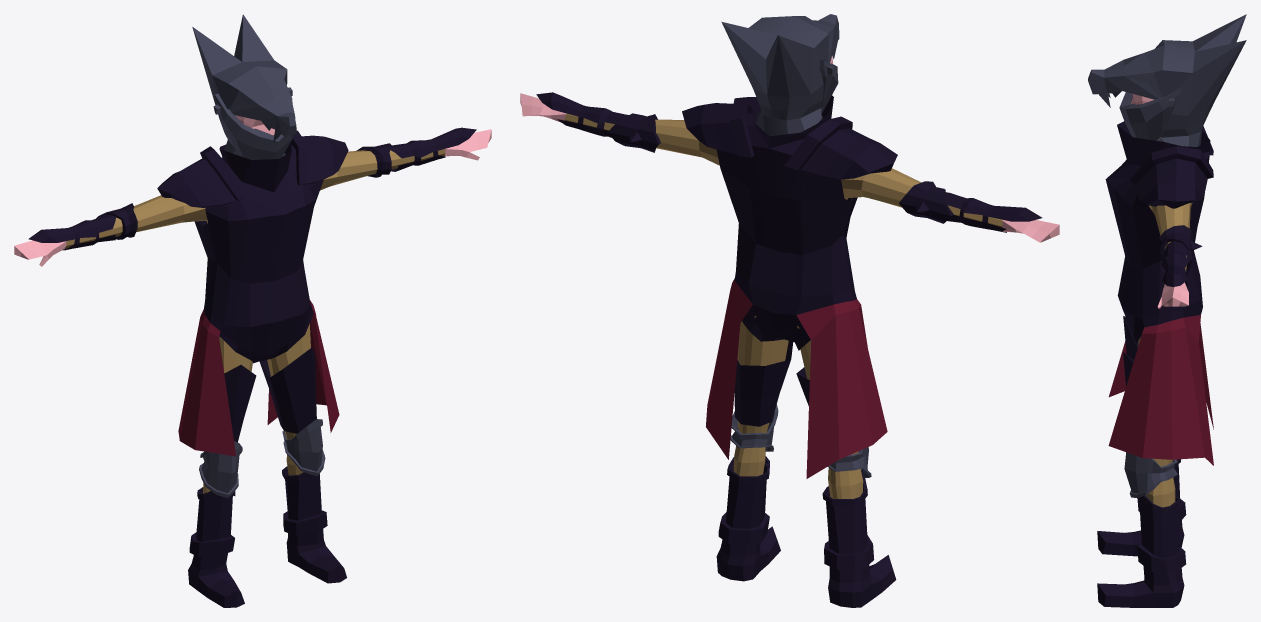
The model's file is Knight.fbx.
The picture shows the model from 3 angles, left to right: view 1: azimuth 30°, elevation 25°; view 2: azimuth 150°, elevation 25°; view 3: azimuth 270°, elevation 25°; orthographic projection. The views are drawn at different scales.
Parts seen in each view (by area): view 1: Knight_Finished; view 2: Knight_Finished; view 3: Knight_Finished.
Boxes of the visible parts, bbox=[...] form: Knight_Finished: bbox=[14, 14, 491, 607]; Knight_Finished: bbox=[520, 14, 1059, 607]; Knight_Finished: bbox=[1088, 14, 1246, 607].
Bounding box in the file's own units: 181 × 189 × 49.6.
